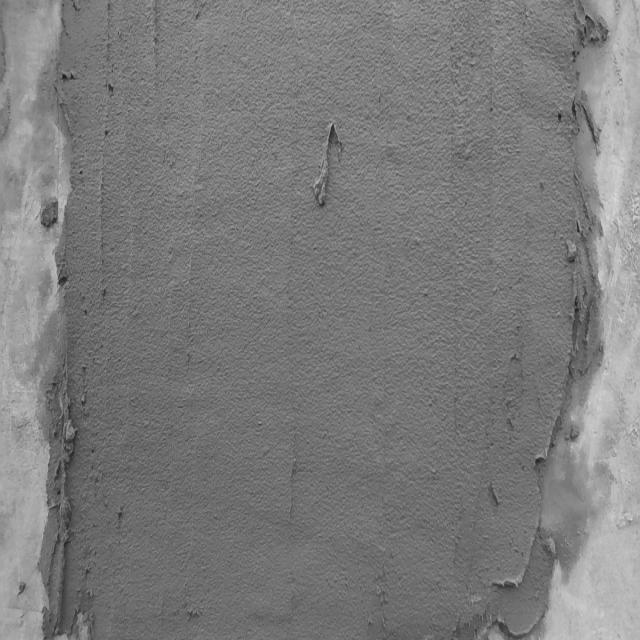trowels marks: (54, 379, 80, 628)
